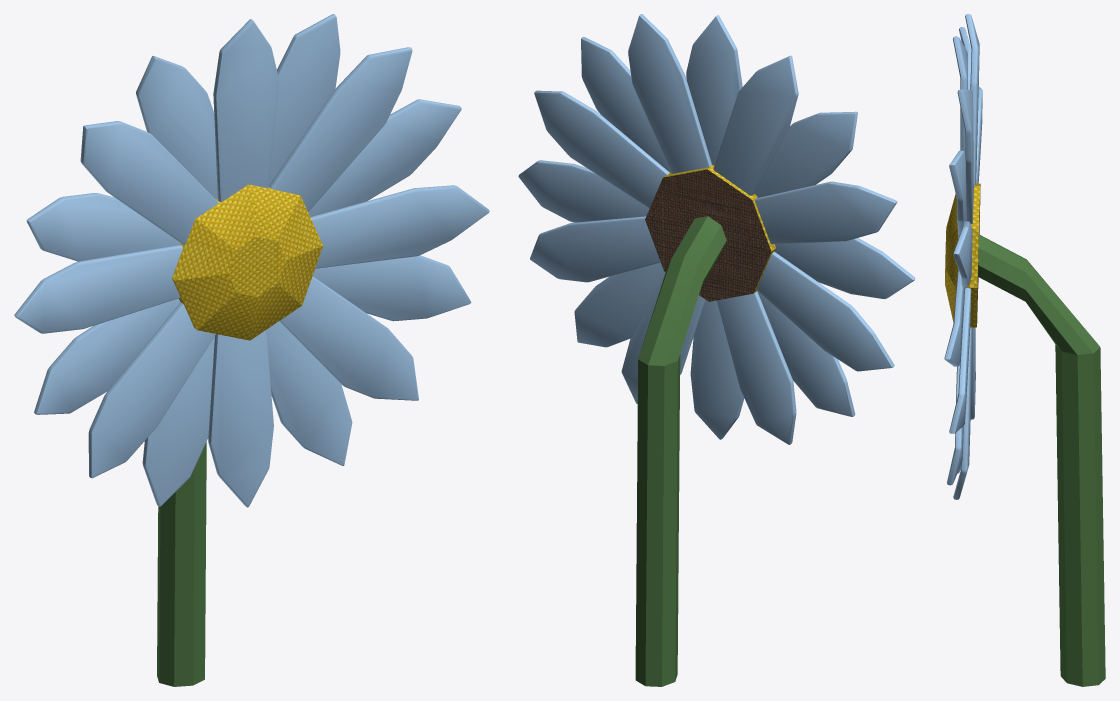
File: daisy_blue.fbx
3 renders of one model, left to right at view 1: azimuth 30°, elevation 25°; view 2: azimuth 150°, elevation 25°; view 3: azimuth 270°, elevation 25°, orthographic. The views are drawn at different scales.
Visible parts, largest first — view 1: Petals001, Ovule, Stem; view 2: Petals001, Ovule, Stem; view 3: Stem, Petals001, Ovule.
Boxes of the visible parts, x1,y1,x2,y2 form: Petals001: [14, 14, 489, 507]; Ovule: [172, 184, 322, 340]; Stem: [157, 442, 206, 686]; Petals001: [518, 14, 915, 444]; Ovule: [638, 164, 775, 365]; Stem: [635, 354, 680, 686]; Stem: [1055, 344, 1105, 686]; Petals001: [944, 14, 982, 499]; Ovule: [945, 183, 1099, 355].
Size of the model in its own units: 113 by 165 by 37.65.
4 materials, 4 textured.
